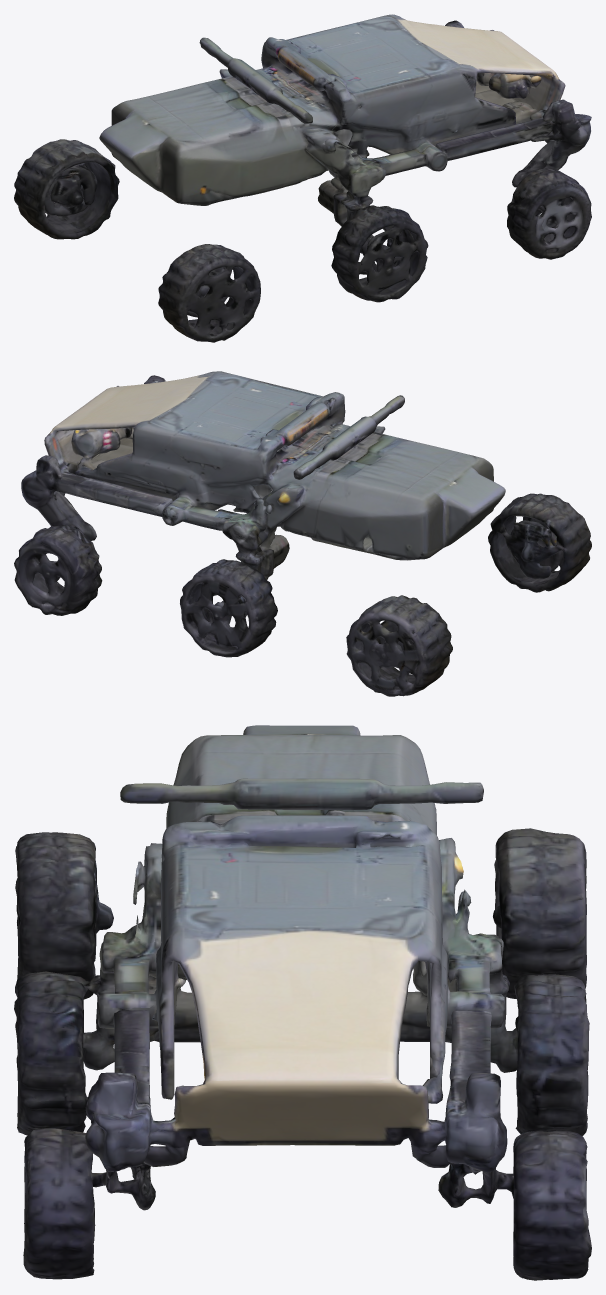
The model's file is Rover_model1.fbx.
3 renders of one model, top to bottom at view 1: azimuth 30°, elevation 25°; view 2: azimuth 150°, elevation 25°; view 3: azimuth 270°, elevation 25°, orthographic. The views are drawn at different scales.
Visible parts, largest first — view 1: Mesh_0; view 2: Mesh_0; view 3: Mesh_0.
Part boxes in pixels (x1=…): Mesh_0: x1=14, y1=14, x2=591, y2=342; Mesh_0: x1=14, y1=371, x2=591, y2=696; Mesh_0: x1=14, y1=725, x2=591, y2=1280.
Size of the model in its own units: 201 by 80.71 by 134.
1 material, 1 textured.
